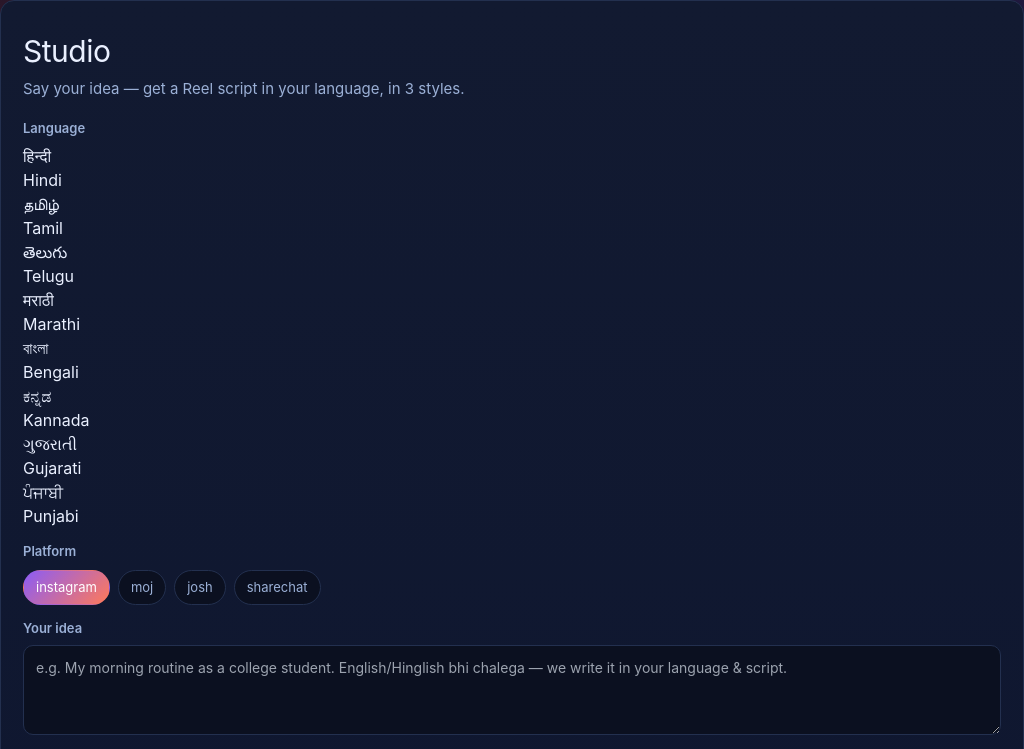
<StudioClient> › generates 3 scripts and renders them
Type "my idea" into the text box with placeholder "My morning routine".
click(512, 690); type("my idea")  # box [23,644,1001,734]
(page scrolled)
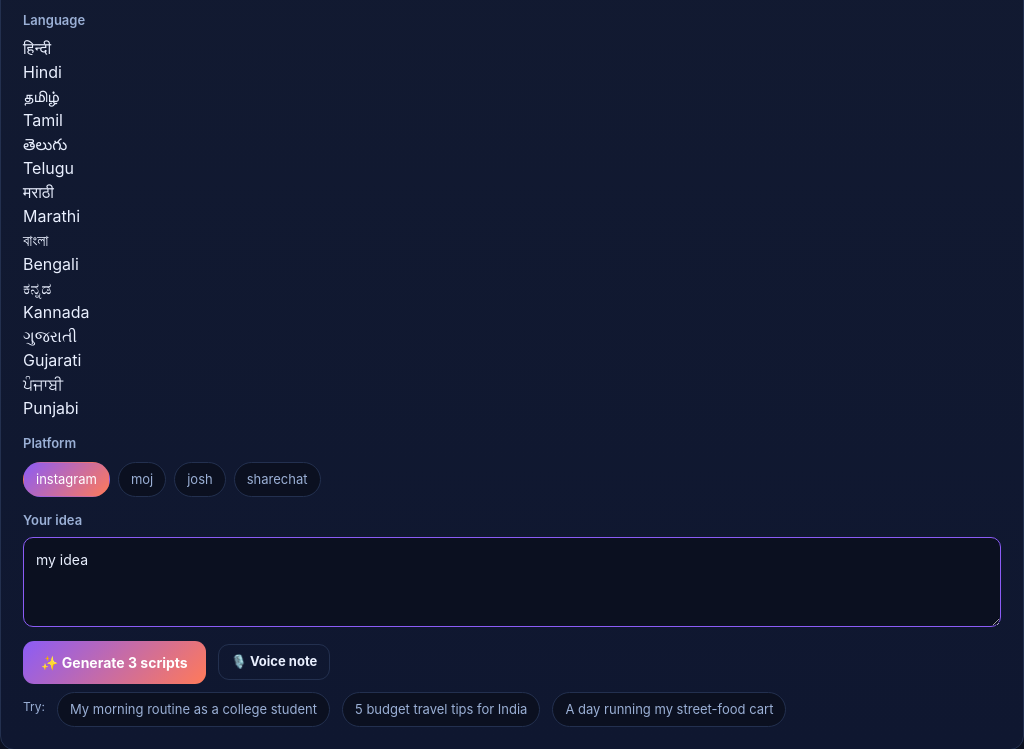
Click the button "✨ Generate 3 scripts".
click(114, 662)  # box [23,640,206,684]
(page scrolled)
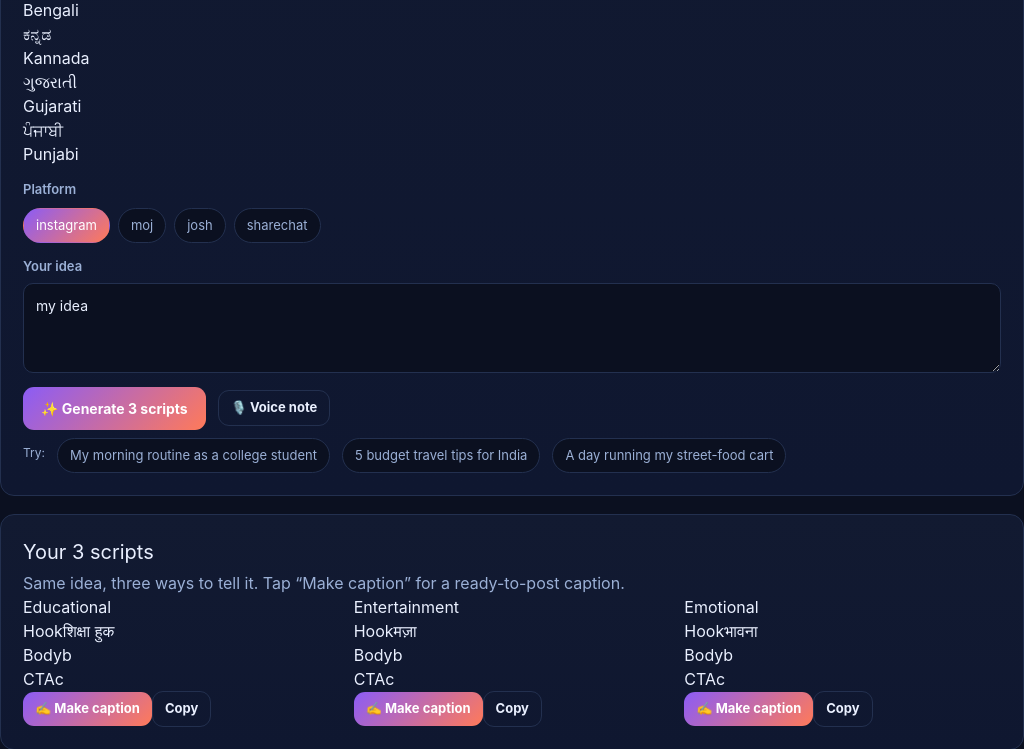
Result: the text "शिक्षा हुक" is shown at [63,621,114,641]
Result: the text "मज़ा" is shown at [394,621,417,641]
